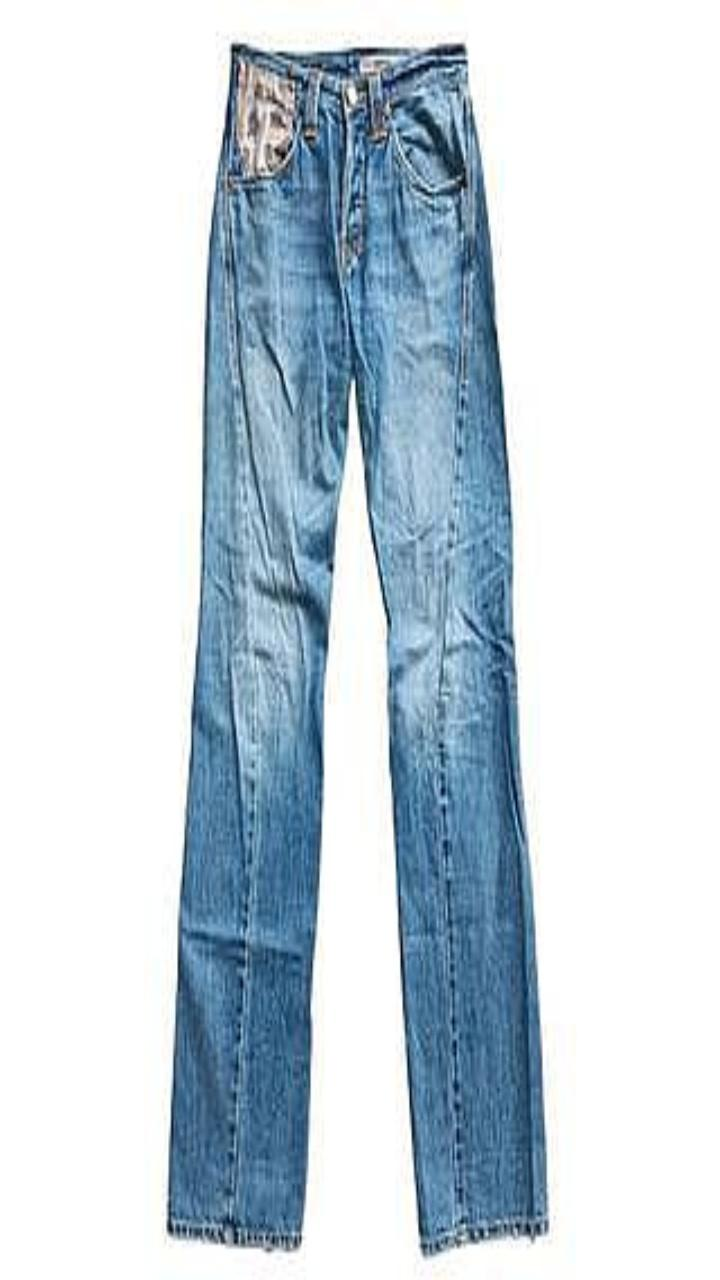Jeans: (168, 44, 547, 1253)
